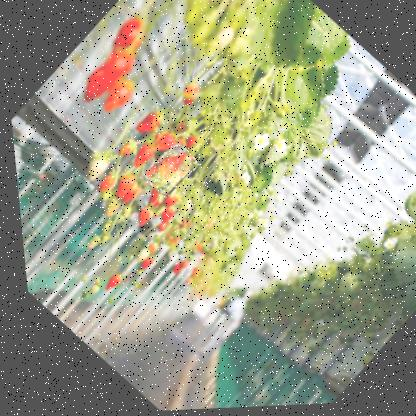strawberry: (135, 141, 198, 201)
